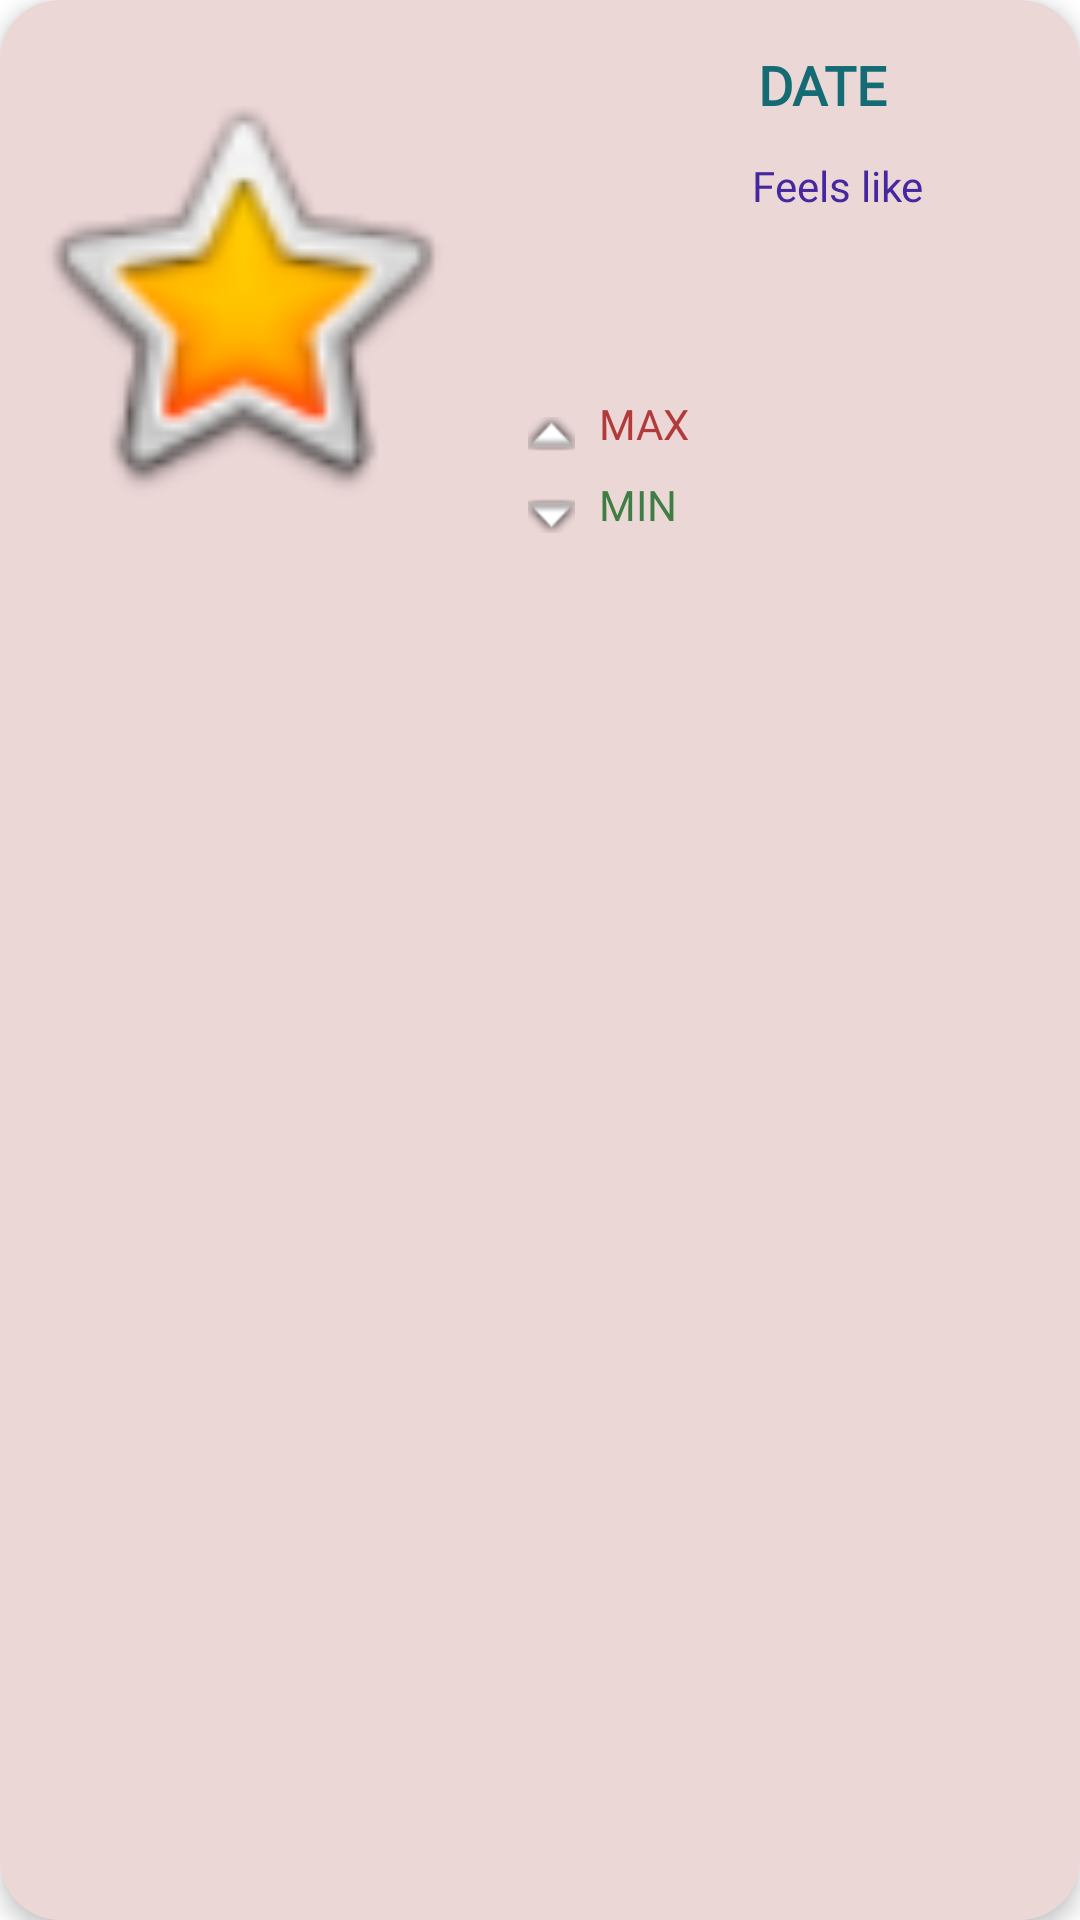

Icons on this 1080w x 1920h Android screen, each with the point to tap as (x,y):
arrow down float: (551,516)
arrow up float: (551,434)
